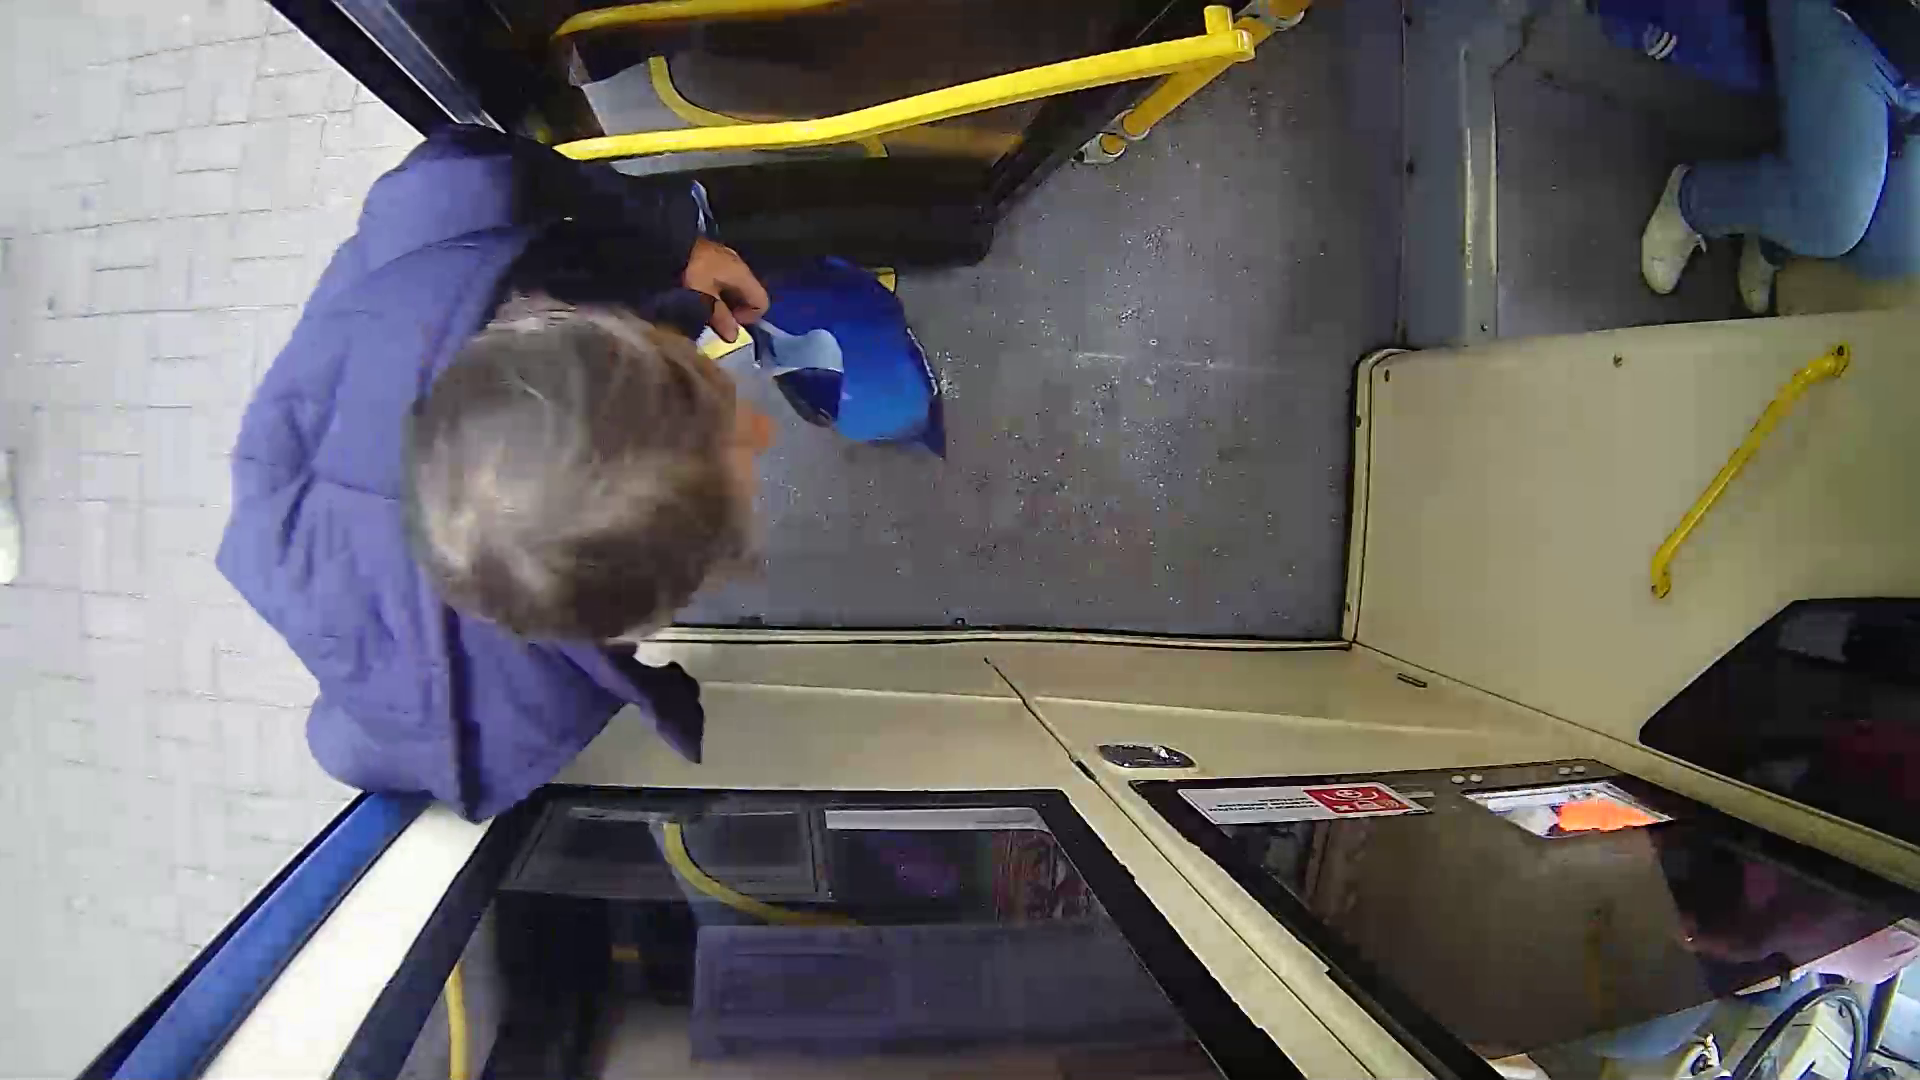person: (201, 123, 986, 811)
